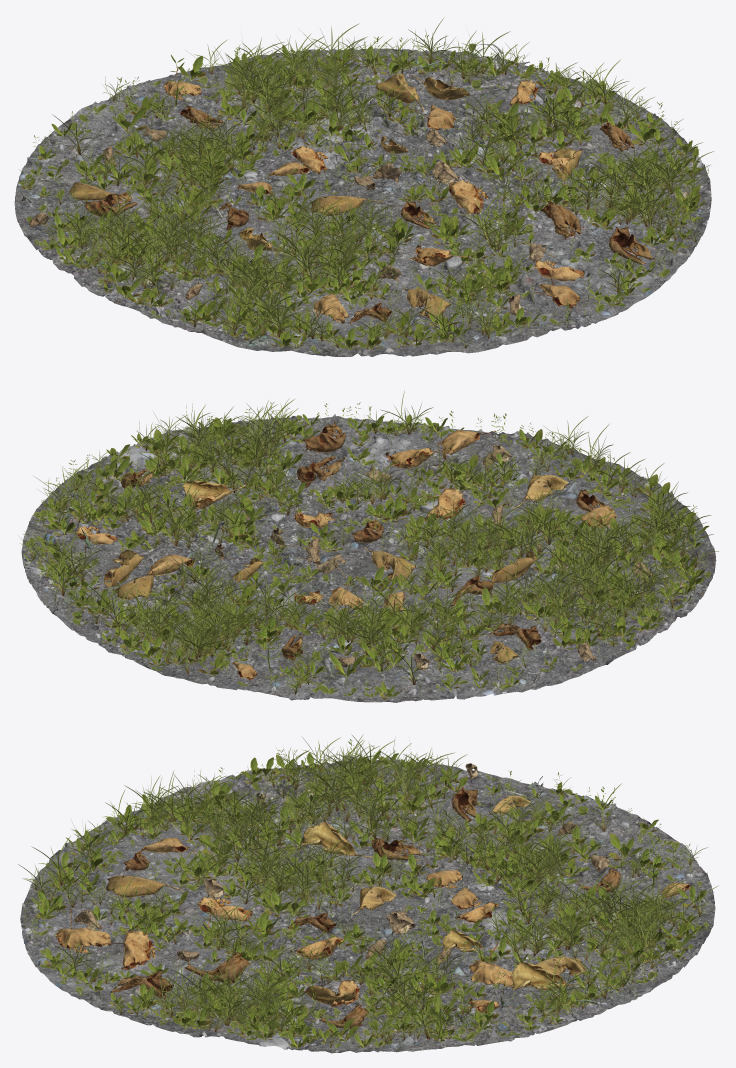
The model's file is garden_ar.glb.
3 renders of one model, top to bottom at view 1: azimuth 30°, elevation 25°; view 2: azimuth 150°, elevation 25°; view 3: azimuth 270°, elevation 25°, orthographic.
Parts seen in each view (by area): view 1: R4_micro_plants_0, ground_close_08_ground_close_08_0, s_list_02_10kuwa_s_list_02_10kuw_0, s_list_04_10kuwa_s_list_04_10kuw_0, s_list_01_10kuwb_default_0, s_list_03_10kuwb_s_list_03_10kuw_0; view 2: R4_micro_plants_0, ground_close_08_ground_close_08_0, s_list_02_10kuwa_s_list_02_10kuw_0, s_list_04_10kuwa_s_list_04_10kuw_0, s_list_01_10kuwb_default_0, s_list_03_10kuwb_s_list_03_10kuw_0; view 3: R4_micro_plants_0, ground_close_08_ground_close_08_0, s_list_02_10kuwa_s_list_02_10kuw_0, s_list_04_10kuwa_s_list_04_10kuw_0, s_list_01_10kuwb_default_0, s_list_03_10kuwb_s_list_03_10kuw_0.
Boxes of the visible parts, <box> form: R4_micro_plants_0: <box>19,18,713,352</box>; ground_close_08_ground_close_08_0: <box>14,44,711,356</box>; s_list_02_10kuwa_s_list_02_10kuw_0: <box>163,66,584,323</box>; s_list_04_10kuwa_s_list_04_10kuw_0: <box>69,73,582,318</box>; s_list_01_10kuwb_default_0: <box>85,105,656,325</box>; s_list_03_10kuwb_s_list_03_10kuw_0: <box>29,126,554,314</box>; R4_micro_plants_0: <box>20,390,718,699</box>; ground_close_08_ground_close_08_0: <box>21,414,716,702</box>; s_list_02_10kuwa_s_list_02_10kuw_0: <box>75,430,618,680</box>; s_list_04_10kuwa_s_list_04_10kuw_0: <box>101,474,568,663</box>; s_list_01_10kuwb_default_0: <box>121,422,606,660</box>; s_list_03_10kuwb_s_list_03_10kuw_0: <box>213,444,652,673</box>; R4_micro_plants_0: <box>18,734,718,1052</box>; ground_close_08_ground_close_08_0: <box>20,755,715,1053</box>; s_list_02_10kuwa_s_list_02_10kuw_0: <box>55,837,697,1013</box>; s_list_04_10kuwa_s_list_04_10kuw_0: <box>106,795,586,1004</box>; s_list_01_10kuwb_default_0: <box>111,787,620,1028</box>; s_list_03_10kuwb_s_list_03_10kuw_0: <box>72,763,613,967</box>.
Bounding box in the file's own units: 1.83 × 0.2242 × 1.86.
6 materials, 6 textured.
